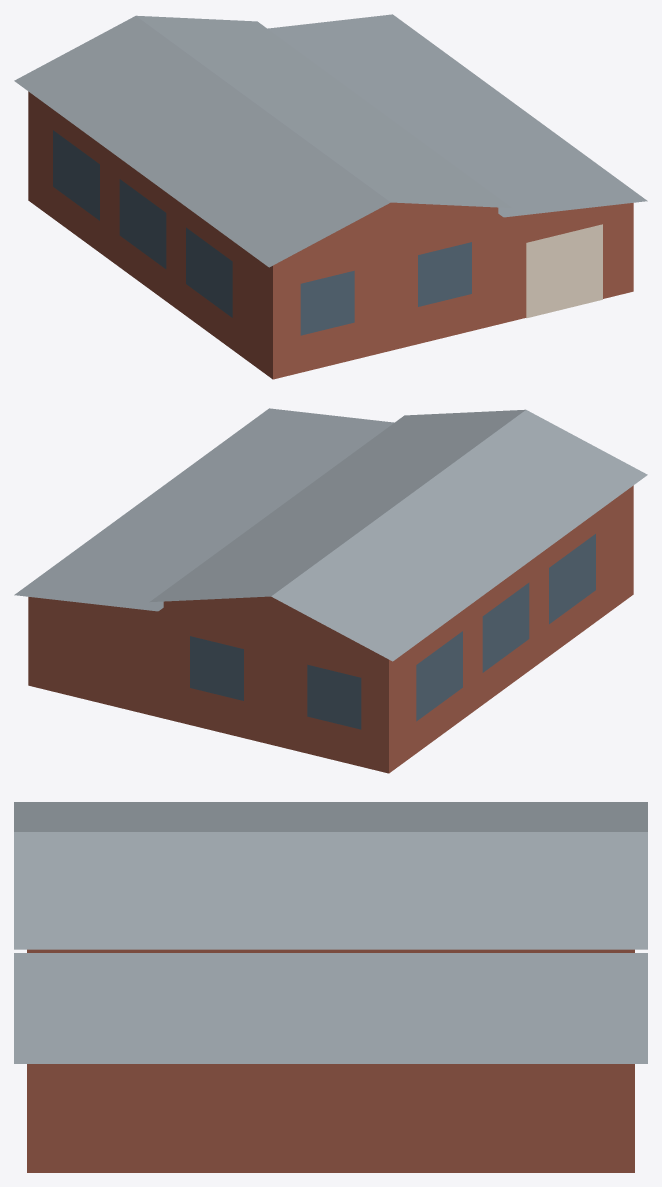
File: clt-cne-crossroad-shed.glb
The picture shows the model from 3 angles, top to bottom: view 1: azimuth 30°, elevation 25°; view 2: azimuth 150°, elevation 25°; view 3: azimuth 270°, elevation 25°; orthographic projection. The views are drawn at different scales.
Visible parts, largest first — view 1: Crossroad shed, Camp North End; view 2: Crossroad shed, Camp North End; view 3: Crossroad shed, Camp North End.
Boxes of the visible parts, x1,y1,x2,y2 form: Crossroad shed, Camp North End: (14,14,647,379); Crossroad shed, Camp North End: (14,408,647,773); Crossroad shed, Camp North End: (14,802,647,1172).
Bounding box in the file's own units: 16.8 × 6.5 × 19.6.
